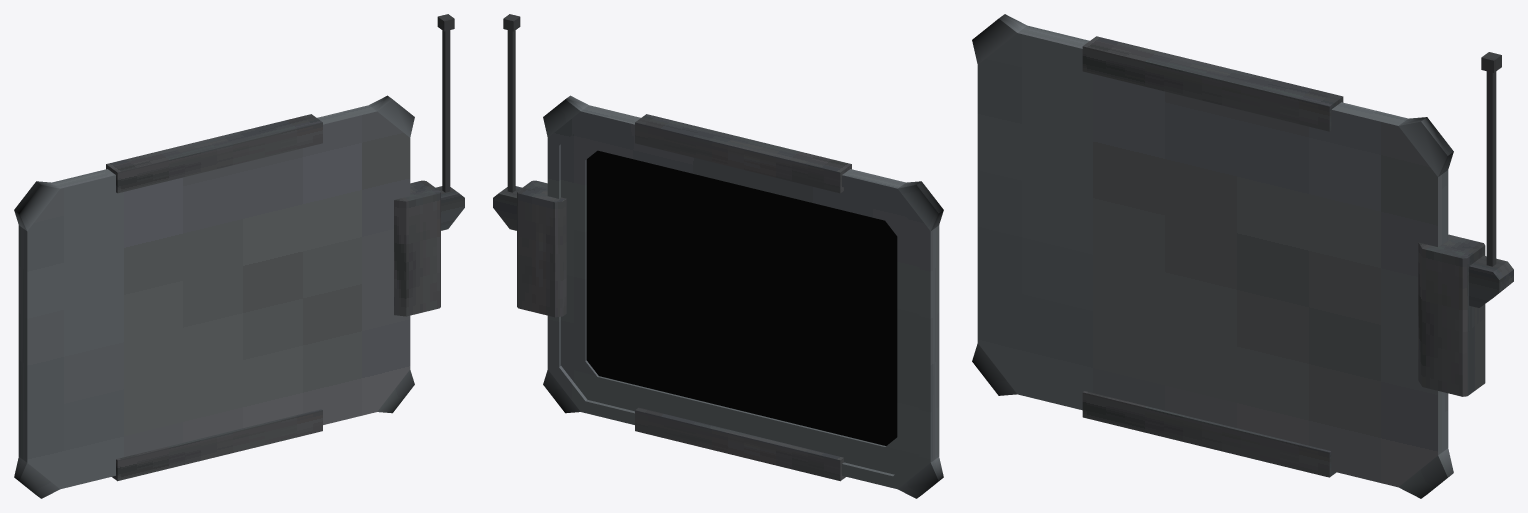
Rendered from item_tablet.glb.
The picture shows the model from 3 angles, left to right: view 1: azimuth 30°, elevation 25°; view 2: azimuth 150°, elevation 25°; view 3: azimuth 330°, elevation 25°; orthographic projection. The views are drawn at different scales.
Visible parts, largest first — view 1: Cube_submesh_0, Cube_submesh_1; view 2: Quad, Cube_submesh_0, Cube_submesh_1; view 3: Cube_submesh_0, Cube_submesh_1.
Boxes of the visible parts, x1,y1,x2,y2 form: Cube_submesh_0: (14, 95, 414, 498); Cube_submesh_1: (106, 14, 464, 481); Quad: (586, 150, 897, 445); Cube_submesh_0: (543, 95, 943, 498); Cube_submesh_1: (493, 14, 851, 481); Cube_submesh_0: (972, 14, 1453, 498); Cube_submesh_1: (1082, 36, 1513, 477).
Bounding box in the file's own units: 0.4322 × 0.3549 × 0.0299.
Materials: 3 (2 with a texture image).
